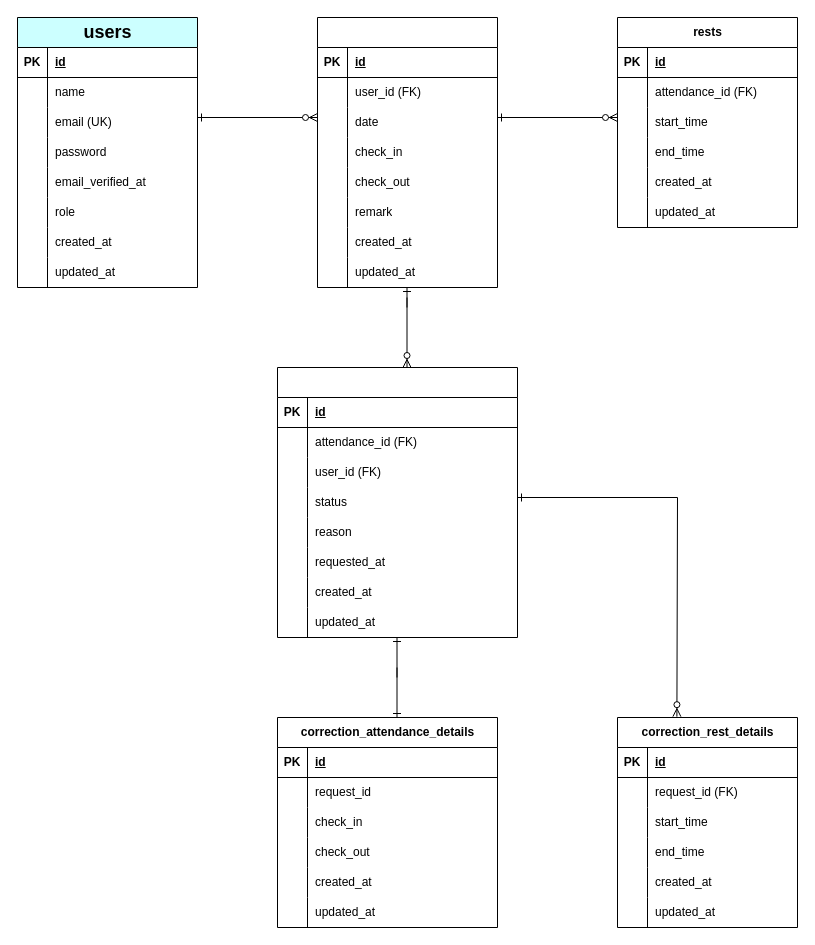
The diagram is 815 pixels wide and 945 high, and some of its shapes have lost their labels. Here are the shapes that lost their labels. From the top down, the box of each, then its label:
(316, 16, 498, 288): attendance
(276, 366, 518, 638): attendance_correct_requests
